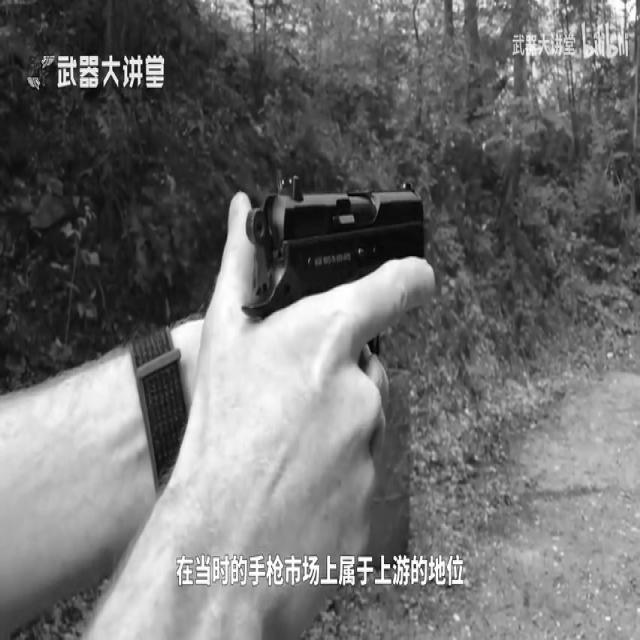Hand-Gun: (198, 100, 478, 516)
